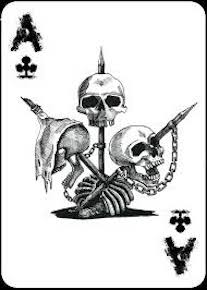AceOfClubs: (1, 1, 204, 289)
